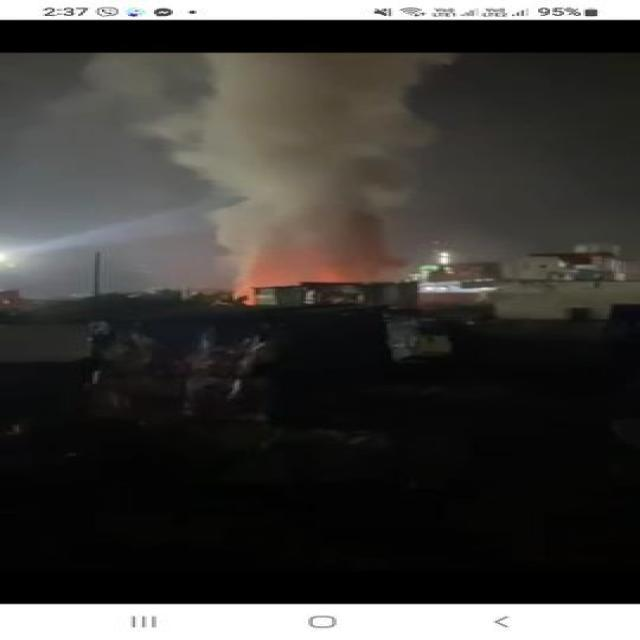Fire: (232, 277, 360, 288), (236, 284, 252, 310)
Smoke: (150, 52, 462, 282)
